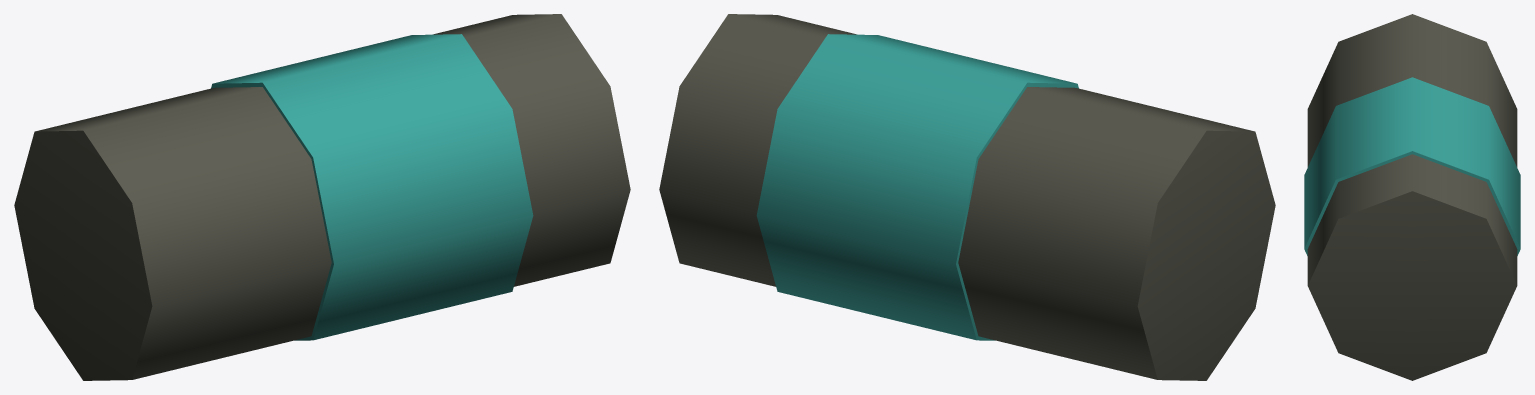
File: tesla-ammo.glb
The picture shows the model from 3 angles, left to right: view 1: azimuth 30°, elevation 25°; view 2: azimuth 150°, elevation 25°; view 3: azimuth 270°, elevation 25°; orthographic projection. The views are drawn at different scales.
Visible parts, largest first — view 1: tesla-ammo; view 2: tesla-ammo; view 3: tesla-ammo.
Boxes of the visible parts, x1,y1,x2,y2 form: tesla-ammo: (14,14,630,380); tesla-ammo: (659,14,1275,380); tesla-ammo: (1304,14,1520,380).
Size of the model in its own units: 0.24 by 0.124 by 0.124.
